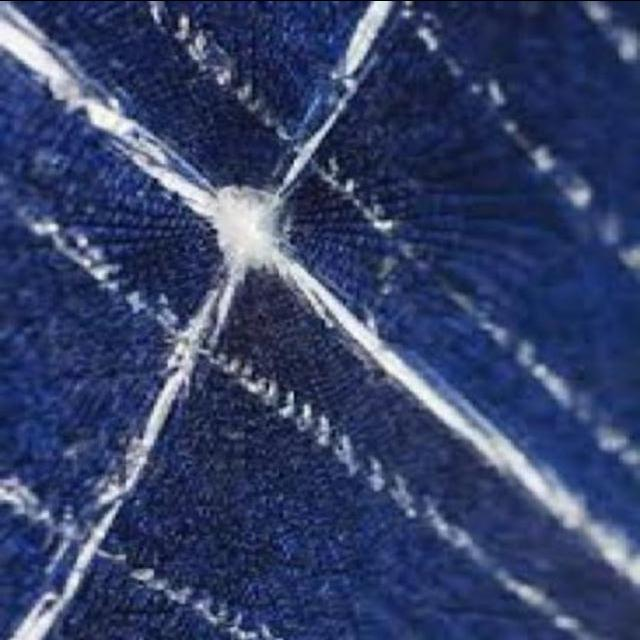cracked: (23, 0, 634, 634)
